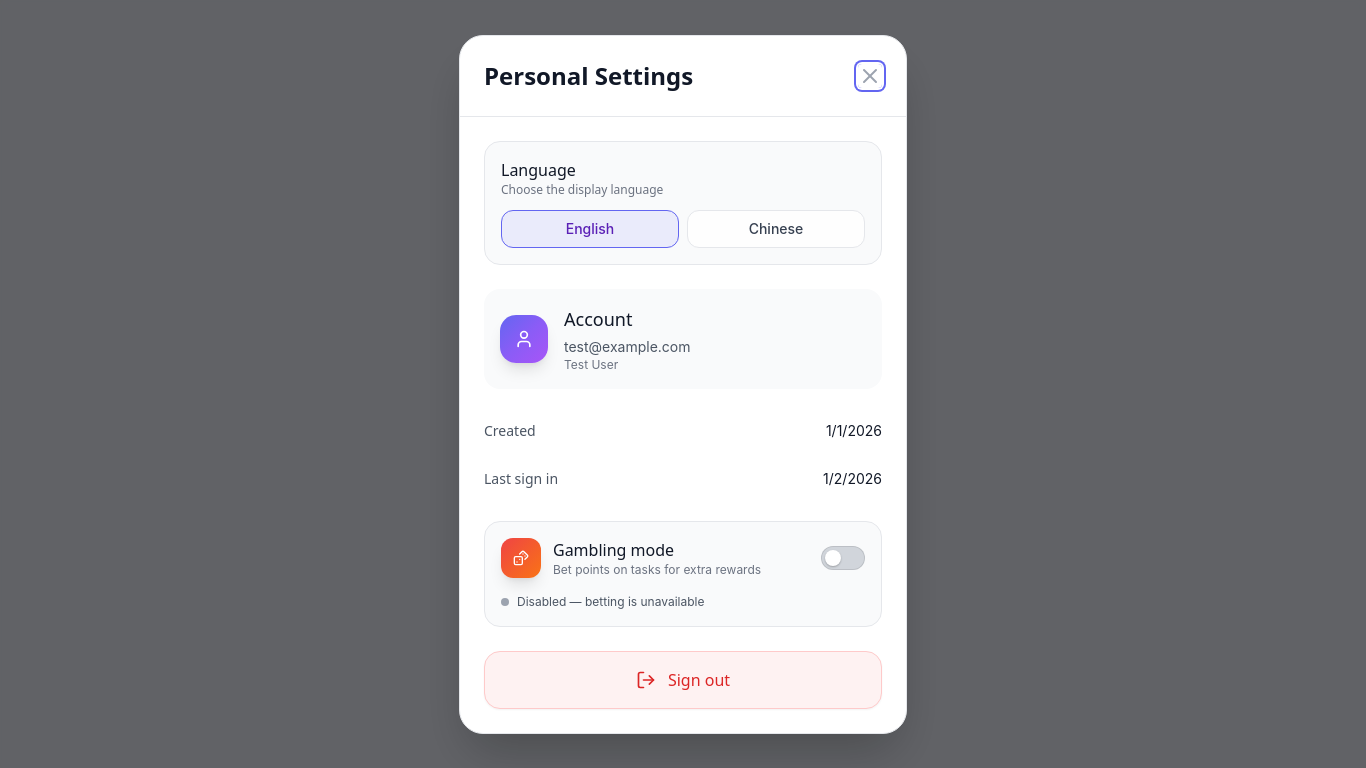
Scenario: AccountModal behavior › shows gambling errors for failed result payloads and thrown exceptions
This screenshot has width=1366, height=768.
Click the switch named "Toggle gambling mode": (843, 558) [821,546,865,570]
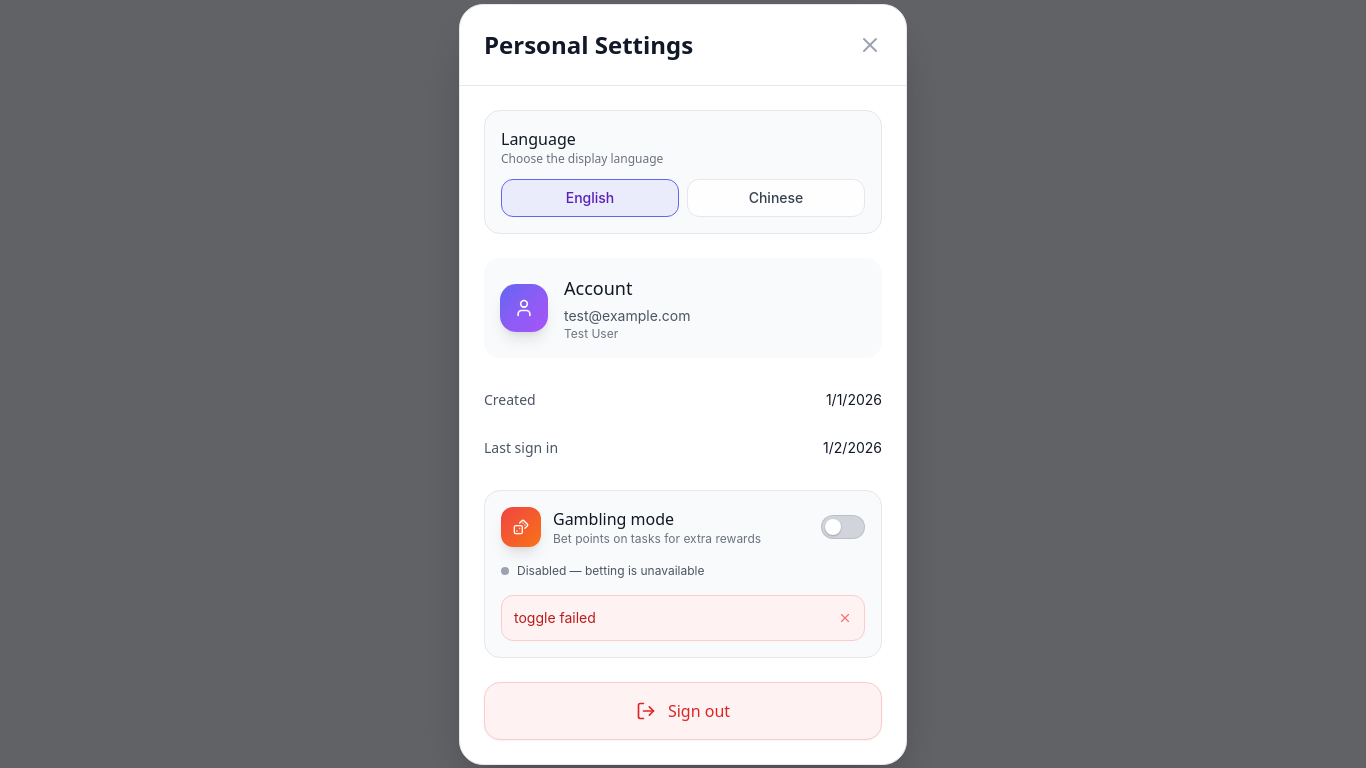
Check: the text "toggle failed" is shown, box [514,608,596,628]
Click the button named "Dismiss error": (845, 618) [838,610,852,624]
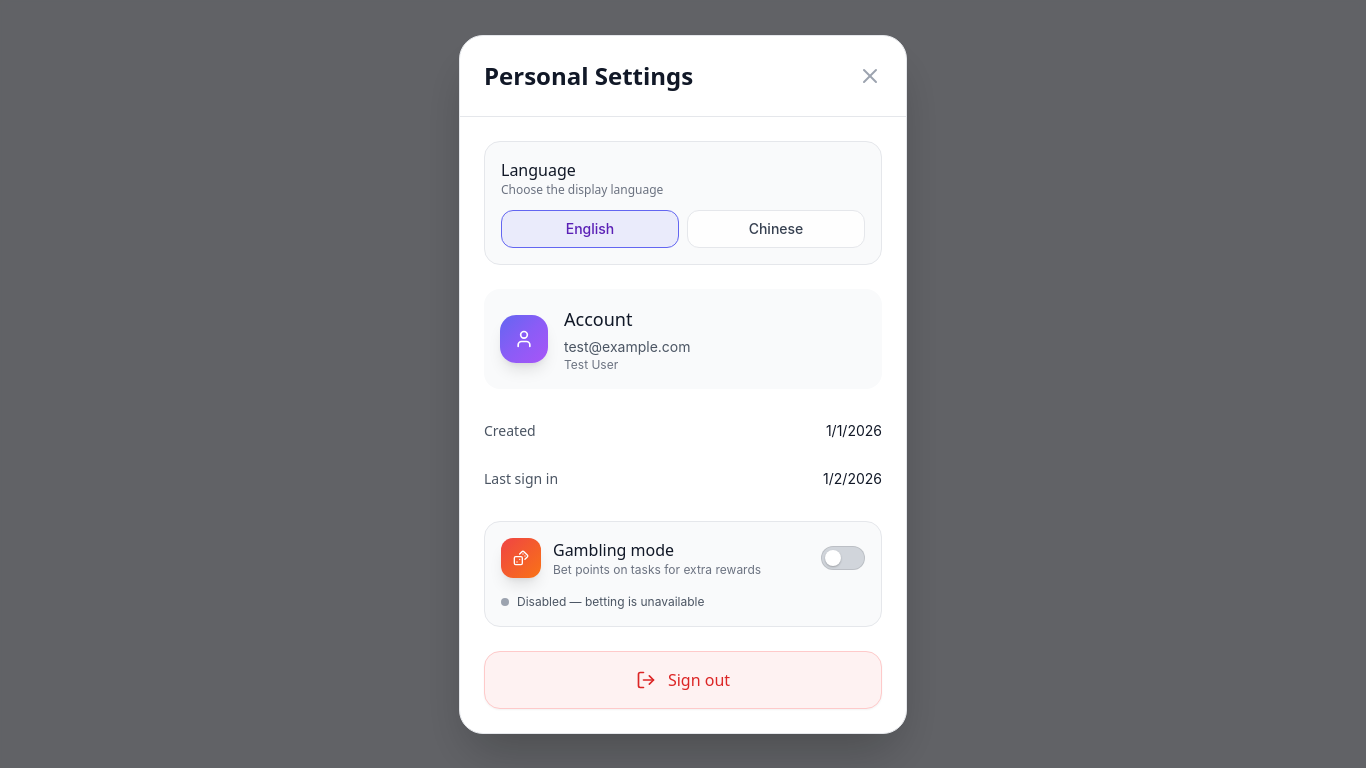
Click the switch named "Toggle gambling mode": (843, 558) [821,546,865,570]
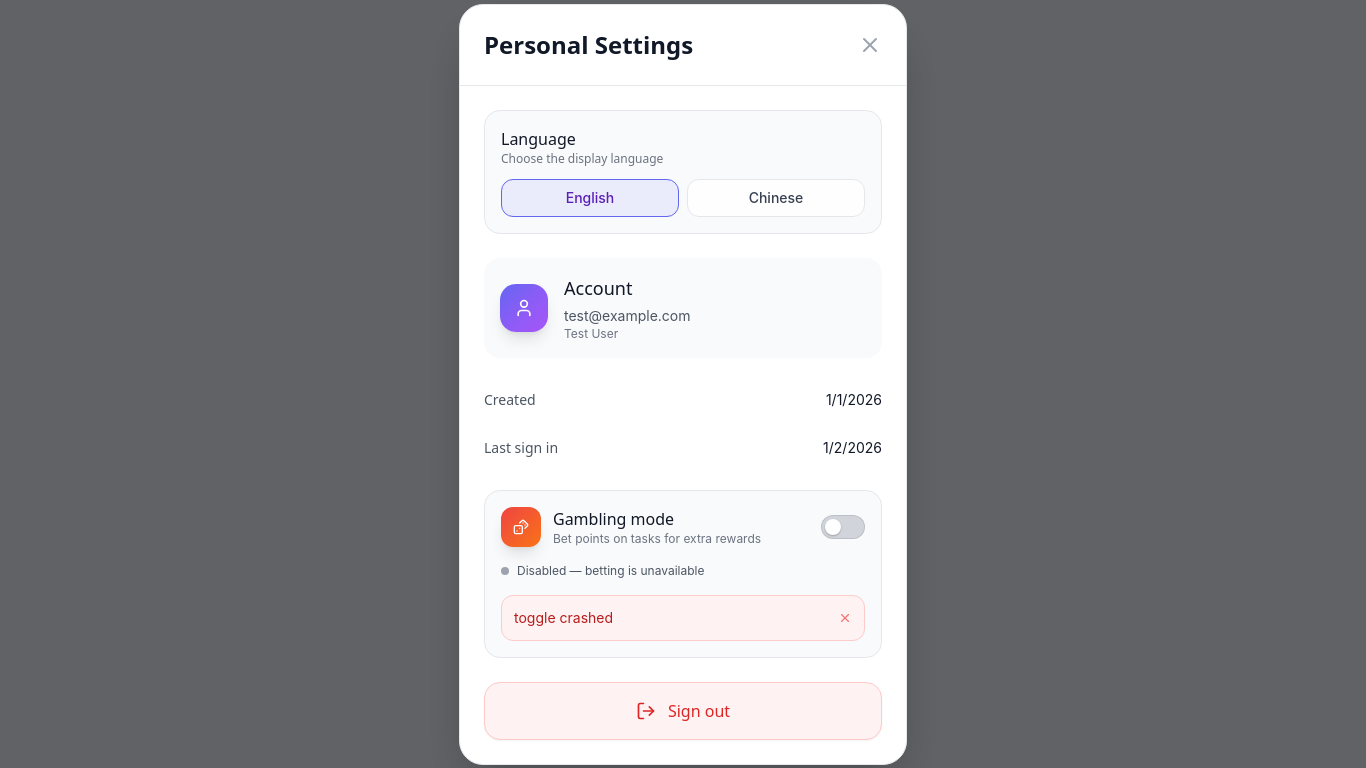
Check: the text "toggle crashed" is shown, box [514,608,613,628]
